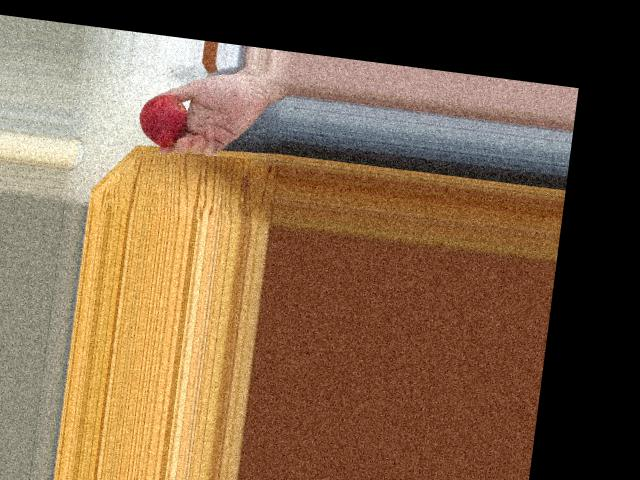apple: (133, 92, 190, 146)
